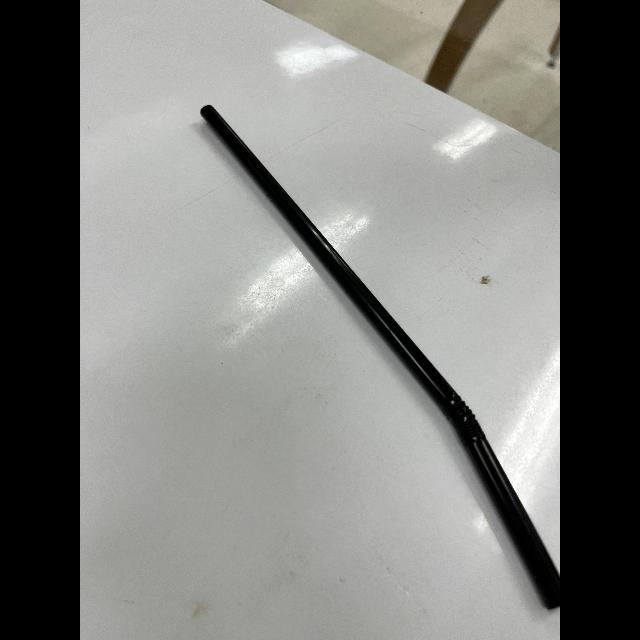straw: (198, 102, 560, 614)
